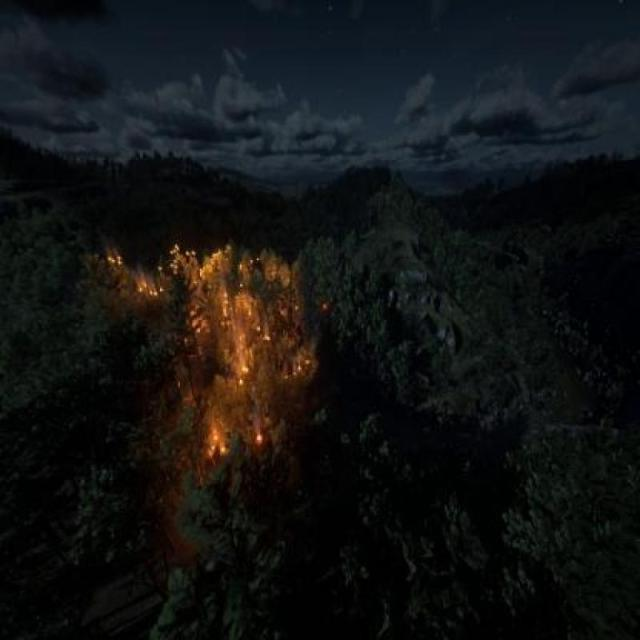Fire: (95, 222, 318, 480)
